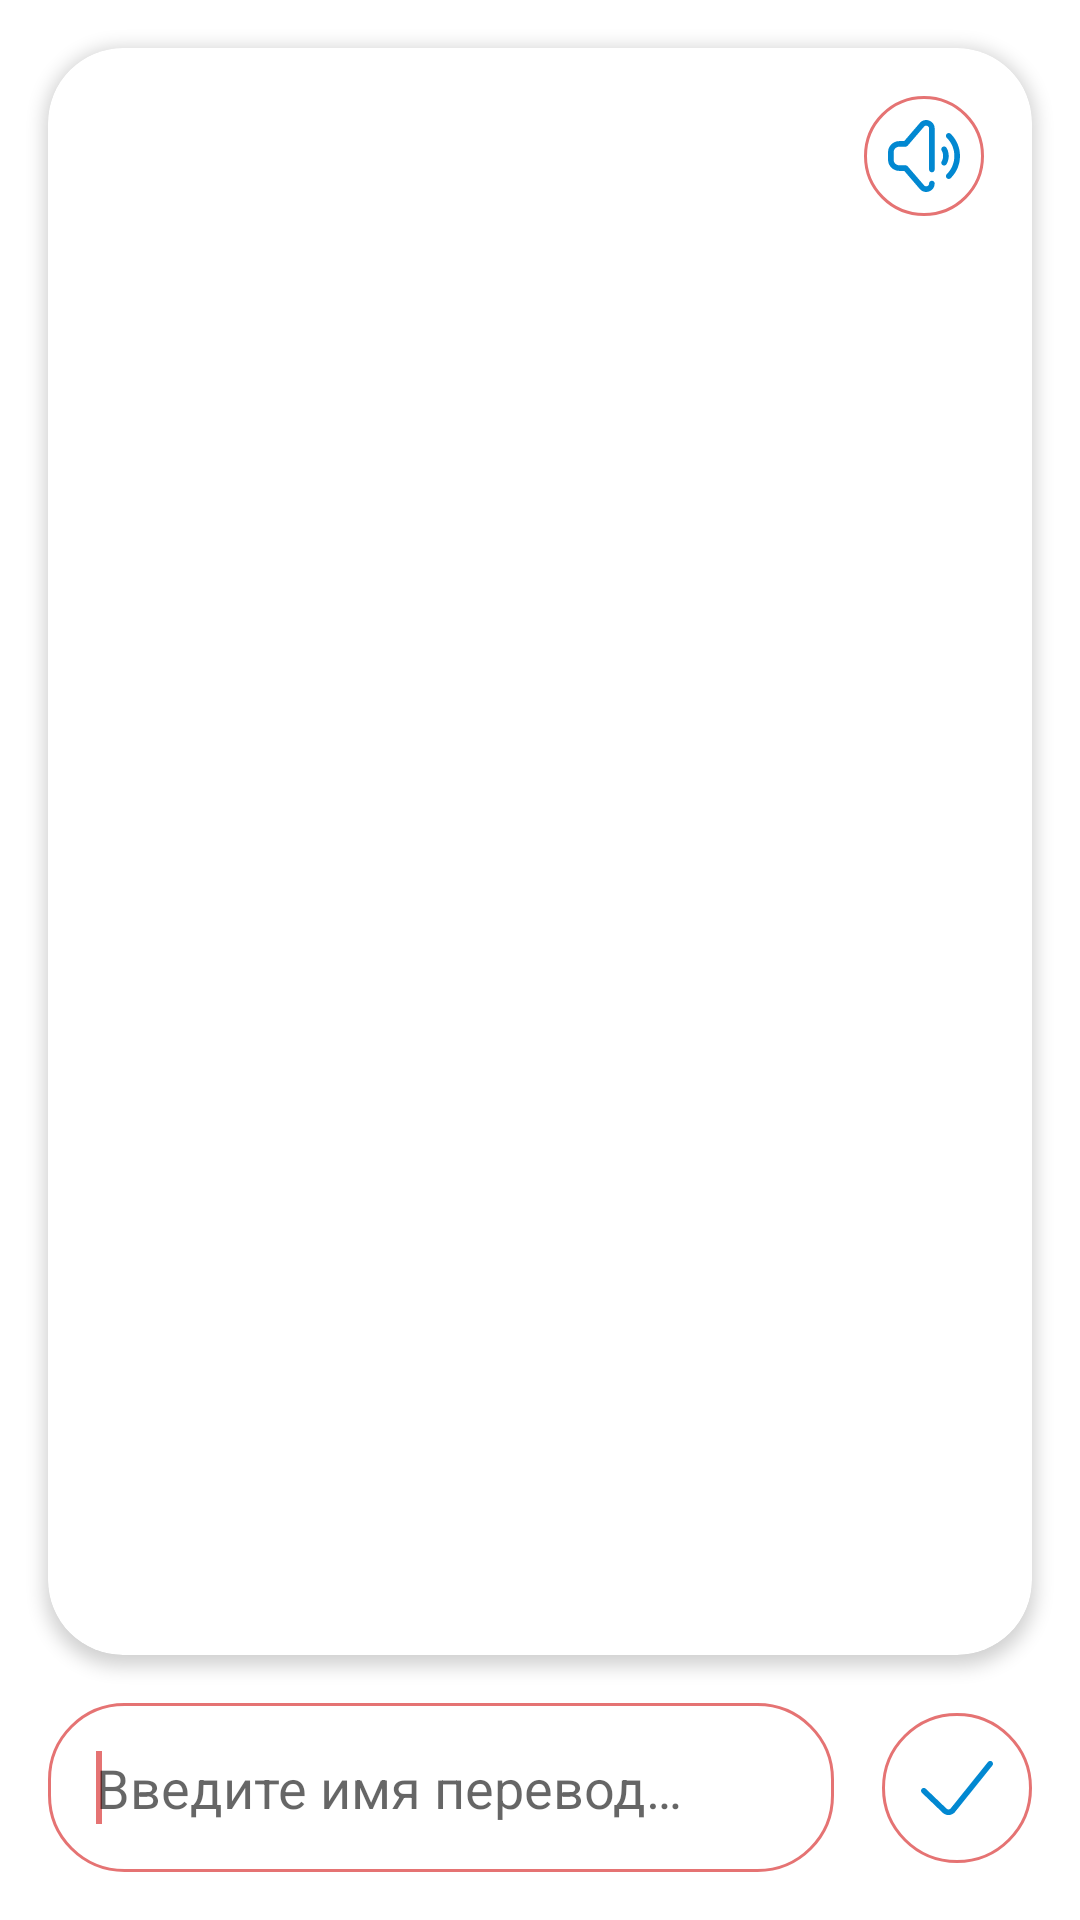

Screen size 1080 x 1920. Icon name, then its box in pixels as (x1, y1, x2, y2):
state check input: (882, 1713, 1032, 1863)
state volume: (864, 96, 984, 216)
